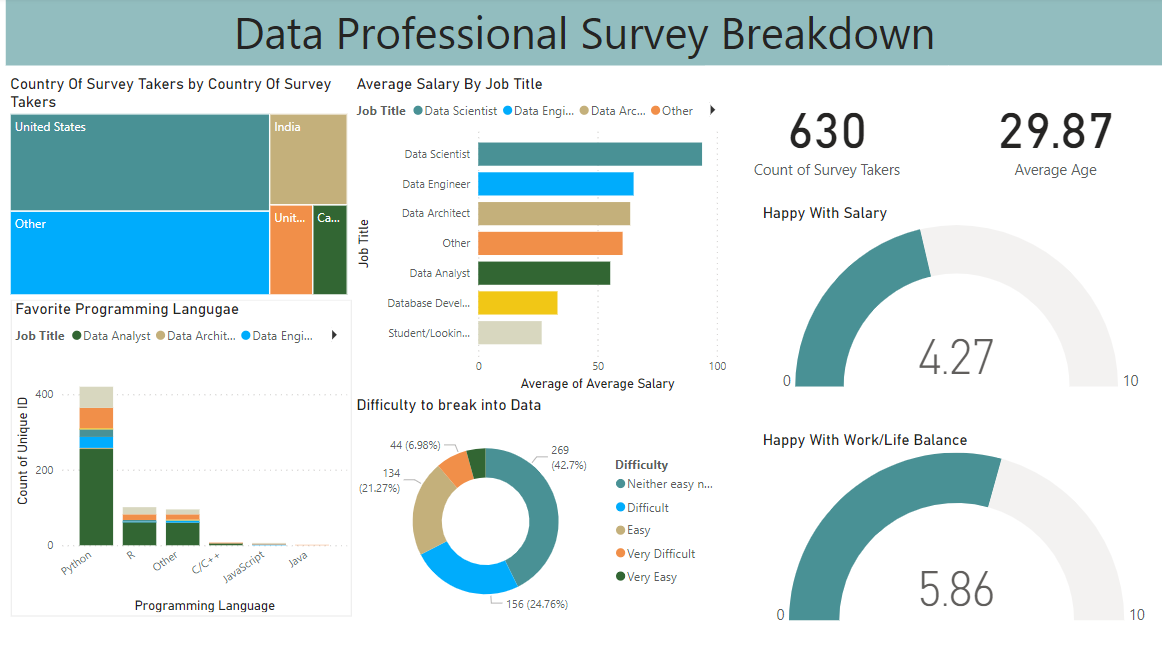

The dashboard page shown, as its layout file describes it:
{"tool":"powerbi","page":{"name":"Page 1","canvas":[1280,720],"ordinal":0},"visuals":[{"type":"textbox","box":[9.6,0,1270.7,75.5],"z":0},{"type":"card","fields":{"Values":["Count(Data Professional Survey.Unique ID)"]},"box":[778,75.5,266.2,150.9],"z":1000},{"type":"card","fields":{"Values":["Avg(Data Professional Survey.Q10 - Current Age)"]},"box":[1044.3,75.5,236,150.9],"z":2000},{"type":"barChart","title":"Average Salary By Job Title","fields":{"Category":["Data Professional Survey.Q1 - Which Title Best Fits your Current Role?.1"],"Y":["Avg(Data Professional Survey.Average Salary)"],"Series":["Data Professional Survey.Q1 - Which Title Best Fits your Current Role?.1"]},"box":[389.7,85.1,415.8,352.7],"z":3000},{"type":"columnChart","title":"Favorite Programming Langugae","fields":{"Category":["Data Professional Survey.Q5 - Favorite Programming Language.1"],"Y":["CountNonNull(Data Professional Survey.Unique ID)"],"Series":["Data Professional Survey.Q1 - Which Title Best Fits your Current Role?.1"]},"box":[15.1,332.1,374.6,348.5],"z":4000},{"type":"treemap","fields":{"Group":["Data Professional Survey.Q11 - Which Country do you live in?.1"],"Values":["CountNonNull(Data Professional Survey.Q11 - Which Country do you live in?.1)"]},"box":[9.6,85.1,380.1,247],"z":5000},{"type":"gauge","title":"Happy With Work/Life Balance","fields":{"Y":["Avg(Data Professional Survey.Q6 - How Happy are you in your Current Position with the following? (Coworkers))"],"MinValue":["Min(Data Professional Survey.Q6 - How Happy are you in your Current Position with the following? (Coworkers))"],"MaxValue":["Max(Data Professional Survey.Q6 - How Happy are you in your Current Position with the following? (Coworkers))"]},"box":[835.7,476.2,444.6,218.2],"z":5001},{"type":"gauge","title":"Happy With Salary","fields":{"Y":["Avg(Data Professional Survey.Q6 - How Happy are you in your Current Position with the following? (Salary))"],"MinValue":["Min(Data Professional Survey.Q6 - How Happy are you in your Current Position with the following? (Salary))"],"MaxValue":["Max(Data Professional Survey.Q6 - How Happy are you in your Current Position with the following? (Salary))"]},"box":[835.7,226.4,444.6,211.3],"z":5002},{"type":"donutChart","title":"Difficulty to break into Data","fields":{"Category":["Data Professional Survey.Q7 - How difficult was it for you to break into Data?"],"Y":["CountNonNull(Data Professional Survey.Q7 - How difficult was it for you to break into Data?)"]},"box":[389.7,437.7,415.8,256.6],"z":5003}]}

Visuals, with their boxes in screenshot pixels (x1, y1, x2, y2), scaled from the page's 1280x720 canvas onto the 1162x651 screenshot:
textbox: (9, 0, 1161, 68)
card - Count(Data Professional Survey.Unique ID): (706, 68, 948, 205)
card - Avg(Data Professional Survey.Q10 - Current Age): (948, 68, 1161, 205)
"Average Salary By Job Title" barChart: (354, 77, 731, 396)
"Favorite Programming Langugae" columnChart: (14, 300, 354, 615)
treemap - Data Professional Survey.Q11 - Which Country do you live in?.1 x CountNonNull(Data Professional Survey.Q11 - Which Country do you live in?.1): (9, 77, 354, 300)
"Happy With Work/Life Balance" gauge: (759, 431, 1161, 628)
"Happy With Salary" gauge: (759, 205, 1161, 396)
"Difficulty to break into Data" donutChart: (354, 396, 731, 628)
